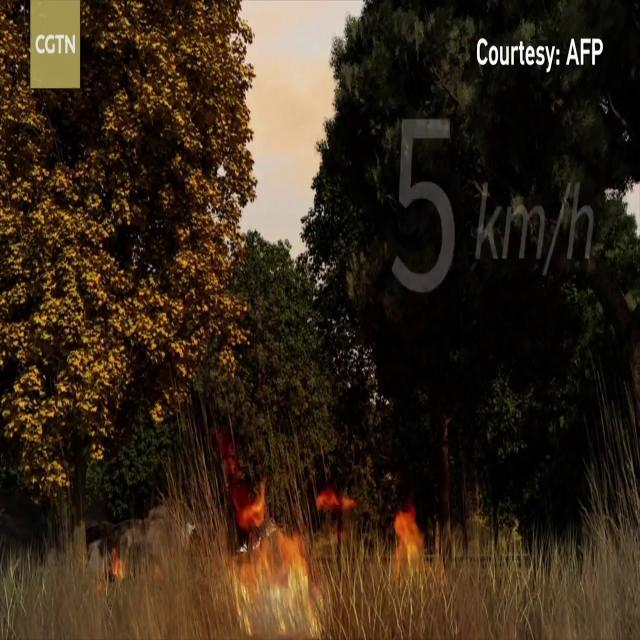Fire: (220, 482, 326, 636)
